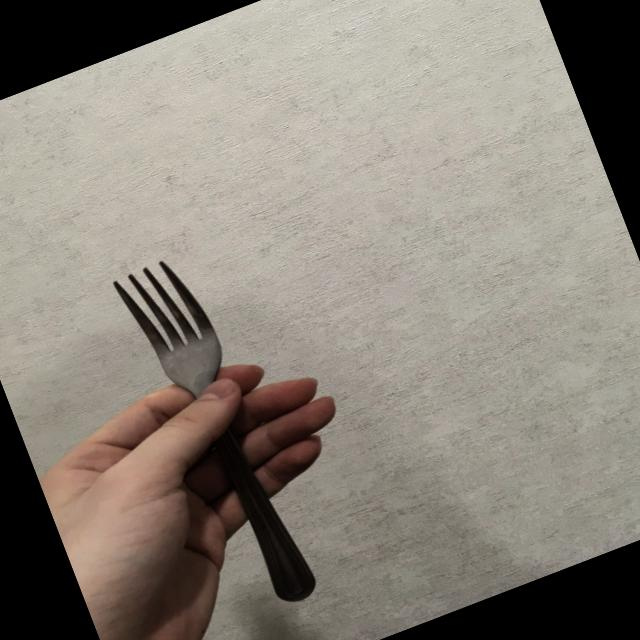fork: (108, 247, 325, 629)
